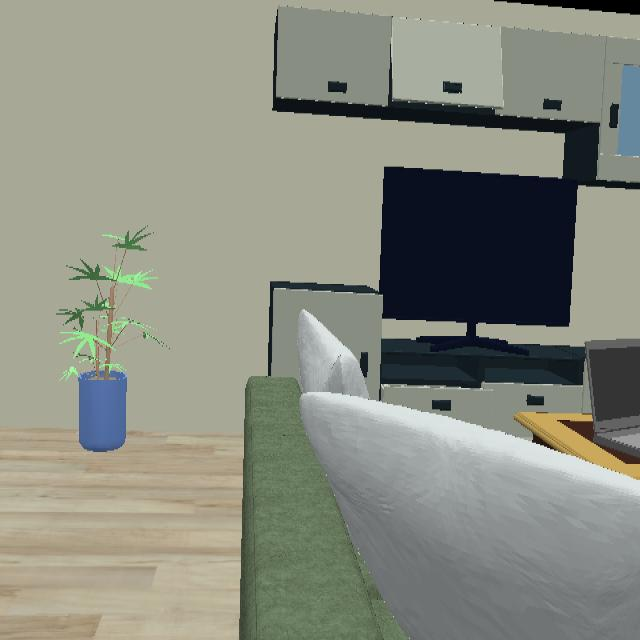cabinet: (275, 8, 640, 183), (271, 283, 584, 441)
laptop: (586, 339, 640, 456)
monitor: (379, 167, 580, 353)
pillow: (298, 391, 640, 640), (294, 311, 370, 399)
sofa: (238, 376, 408, 640)
table: (515, 411, 640, 481)
